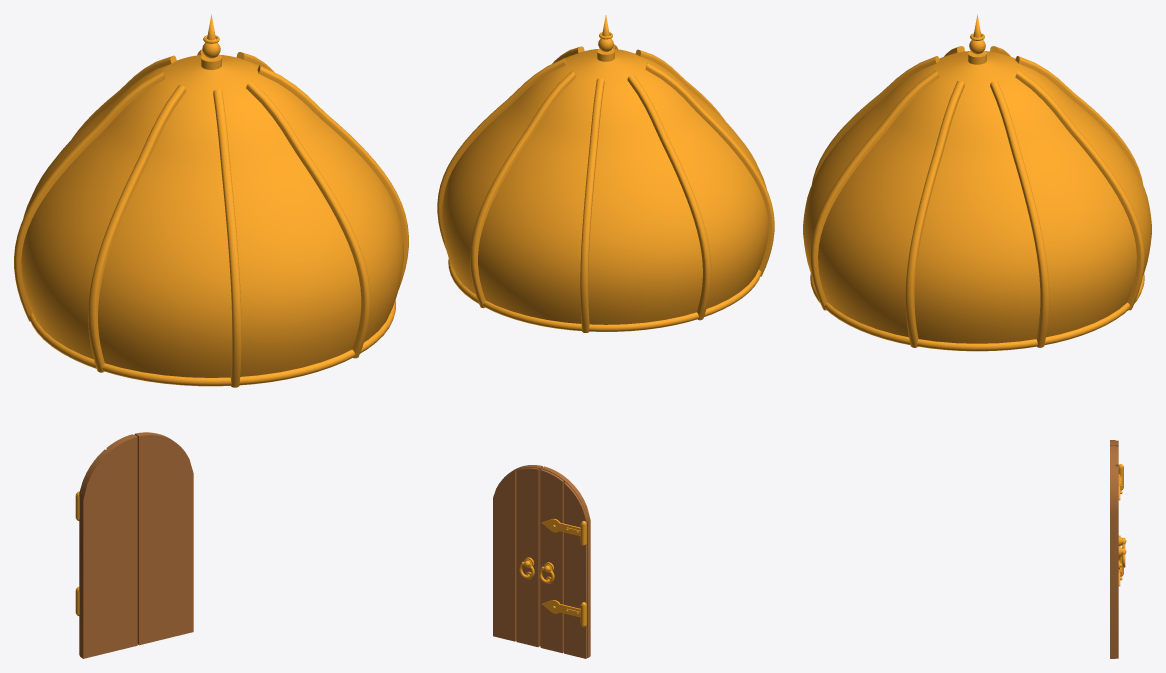
Rendered from HaloDomeHouse_04_ornaments.glb.
3 renders of one model, left to right at view 1: azimuth 30°, elevation 25°; view 2: azimuth 150°, elevation 25°; view 3: azimuth 270°, elevation 25°, orthographic. The views are drawn at different scales.
Parts seen in each view (by area): view 1: Orn_HaloDomeHouse_04_Dome, Orn_HaloDomeHouse_04_Dome_Ribs, Orn_HaloDomeHouse_04_Leaf0, Orn_HaloDomeHouse_04_Leaf1; view 2: Orn_HaloDomeHouse_04_Dome, Orn_HaloDomeHouse_04_Dome_Ribs, Orn_HaloDomeHouse_04_Leaf1, Orn_HaloDomeHouse_04_Leaf0, Orn_HaloDomeHouse_04_Hinge0, Orn_HaloDomeHouse_04_Hinge1; view 3: Orn_HaloDomeHouse_04_Dome, Orn_HaloDomeHouse_04_Dome_Ribs, Orn_HaloDomeHouse_04_Leaf1.
Boxes of the visible parts, x1,y1,x2,y2 form: Orn_HaloDomeHouse_04_Dome: (21,14,403,386); Orn_HaloDomeHouse_04_Dome_Ribs: (14,49,408,387); Orn_HaloDomeHouse_04_Leaf0: (79,434,137,658); Orn_HaloDomeHouse_04_Leaf1: (135,432,193,645); Orn_HaloDomeHouse_04_Dome: (441,15,768,331); Orn_HaloDomeHouse_04_Dome_Ribs: (437,44,774,332); Orn_HaloDomeHouse_04_Leaf1: (493,465,542,647); Orn_HaloDomeHouse_04_Leaf0: (540,466,590,658); Orn_HaloDomeHouse_04_Hinge0: (542,600,586,627); Orn_HaloDomeHouse_04_Hinge1: (542,519,586,545); Orn_HaloDomeHouse_04_Dome: (803,14,1151,351); Orn_HaloDomeHouse_04_Dome_Ribs: (810,46,1144,347); Orn_HaloDomeHouse_04_Leaf1: (1110,445,1118,658).
Bounding box in the file's own units: 12.87 × 25.25 × 12.87.
